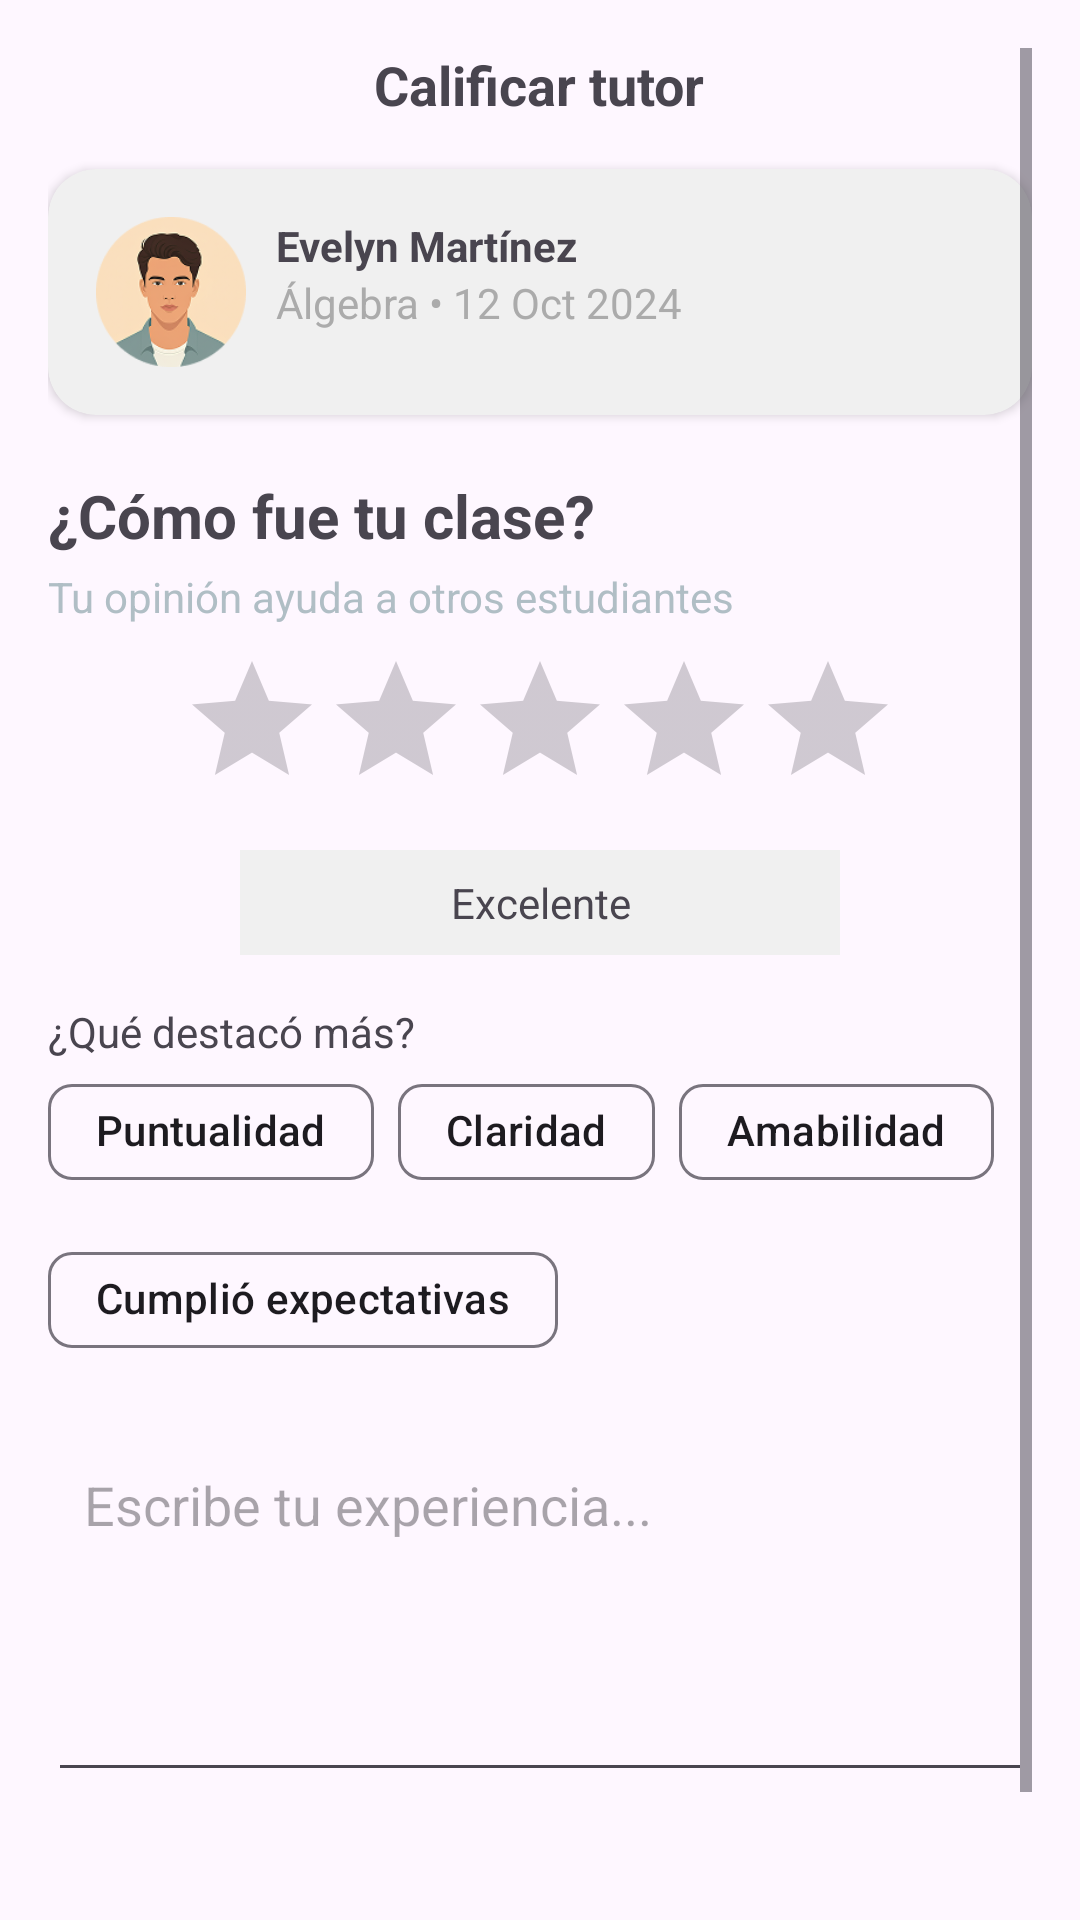

Icon click points for this 1080w x 1920h phone screenshot, format [x,y]:
profile photo: [171,292]
